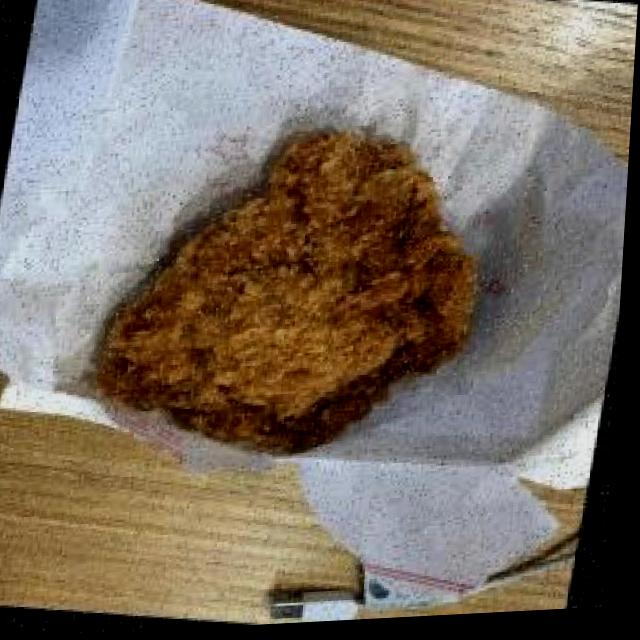fried_chicken: (82, 99, 512, 486)
